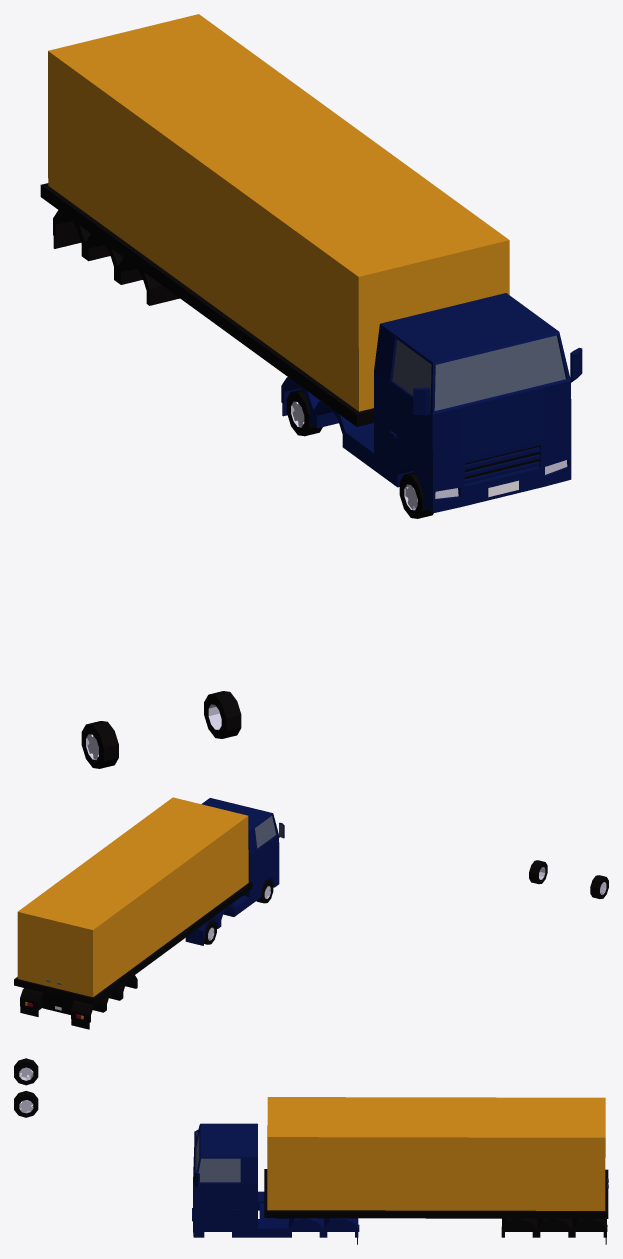
Rendered from Truck_wheel_rear_right.gltf.
3 views of the same model, one above another, from view 1: azimuth 30°, elevation 25°; view 2: azimuth 150°, elevation 25°; view 3: azimuth 270°, elevation 25° (orthographic). The views are drawn at different scales.
Parts seen in each view (by area): view 1: Truck_with_trailer, Truck_wheel_rear_right, Truck_wheel_rear_left, Truck_with_trailer_wheel_front_right, Truck_with_trailer_wheel_rear_right_2; view 2: Truck_with_trailer, Truck_wheel_rear_left, Truck_wheel_rear_right; view 3: Truck_with_trailer, Truck_wheel_rear_right, Truck_wheel_rear_left.
Boxes of the visible parts, x1=… form: Truck_with_trailer: x1=40, y1=14, x2=582, y2=513; Truck_wheel_rear_right: x1=81, y1=721, x2=118, y2=768; Truck_wheel_rear_left: x1=204, y1=691, x2=241, y2=738; Truck_with_trailer_wheel_front_right: x1=399, y1=472, x2=433, y2=518; Truck_with_trailer_wheel_rear_right_2: x1=286, y1=389, x2=322, y2=436; Truck_with_trailer: x1=14, y1=797, x2=284, y2=1029; Truck_wheel_rear_left: x1=529, y1=860, x2=547, y2=884; Truck_wheel_rear_right: x1=590, y1=875, x2=608, y2=898; Truck_with_trailer: x1=192, y1=1097, x2=608, y2=1244; Truck_wheel_rear_right: x1=14, y1=1058, x2=38, y2=1085; Truck_wheel_rear_left: x1=14, y1=1091, x2=38, y2=1117.
Size of the model in its own units: 1310 by 405 by 1916.
